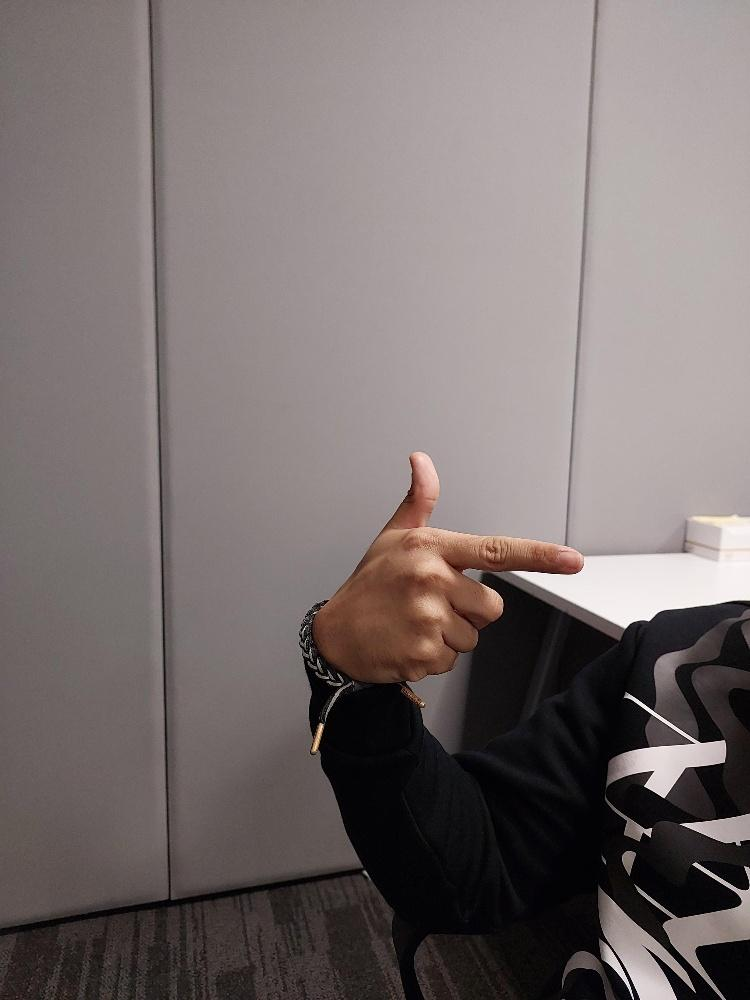g: (302, 448, 588, 686)
